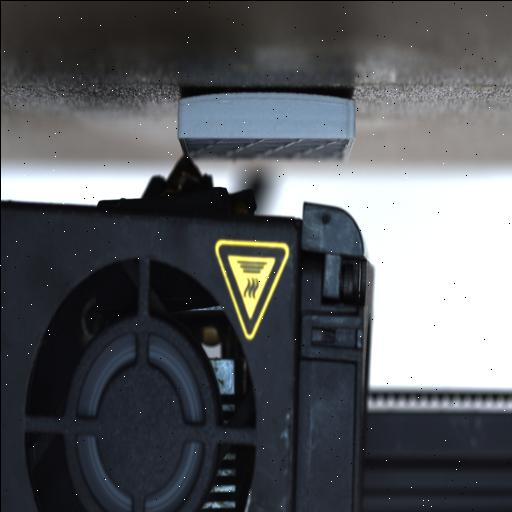warp: (174, 83, 257, 113), (318, 87, 358, 118)
